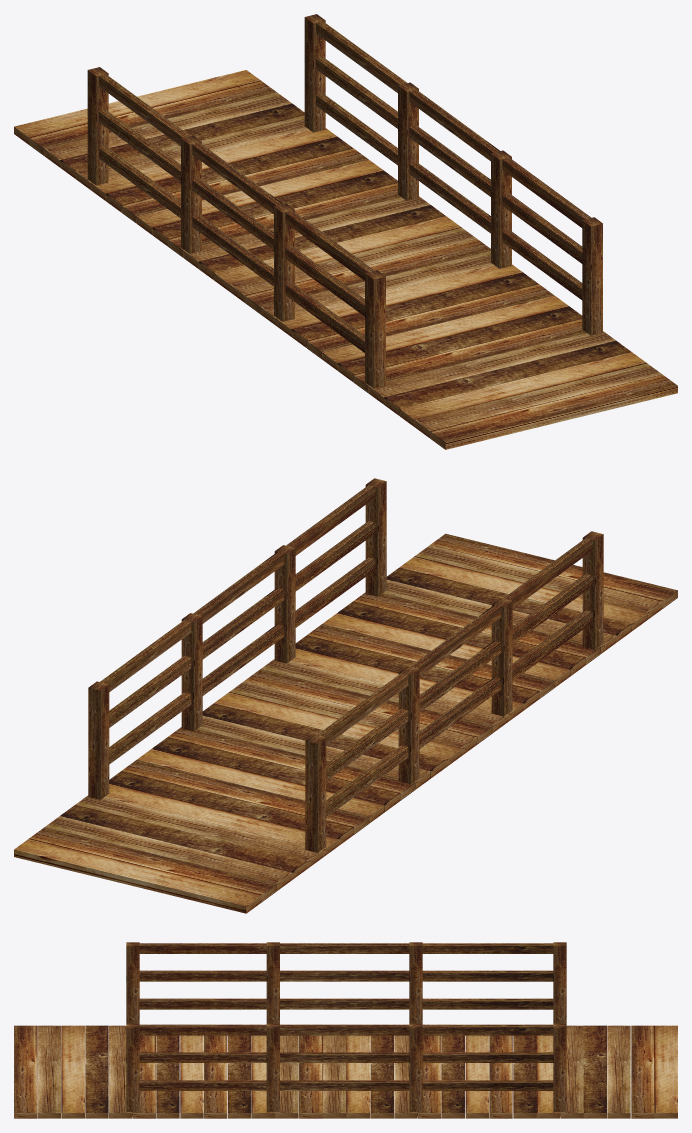
File: bridge.fbx
3 renders of one model, top to bottom at view 1: azimuth 30°, elevation 25°; view 2: azimuth 150°, elevation 25°; view 3: azimuth 270°, elevation 25°, orthographic. The views are drawn at different scales.
Parts seen in each view (by area): view 1: polySurface1; view 2: polySurface1; view 3: polySurface1.
Boxes of the visible parts, box(x1,y1,x2,y2) form: polySurface1: box(14, 14, 677, 449); polySurface1: box(14, 478, 677, 913); polySurface1: box(14, 942, 677, 1118).
Bounding box in the file's own units: 5.08 × 2.44 × 16.35.
Materials: 2 (2 with a texture image).
